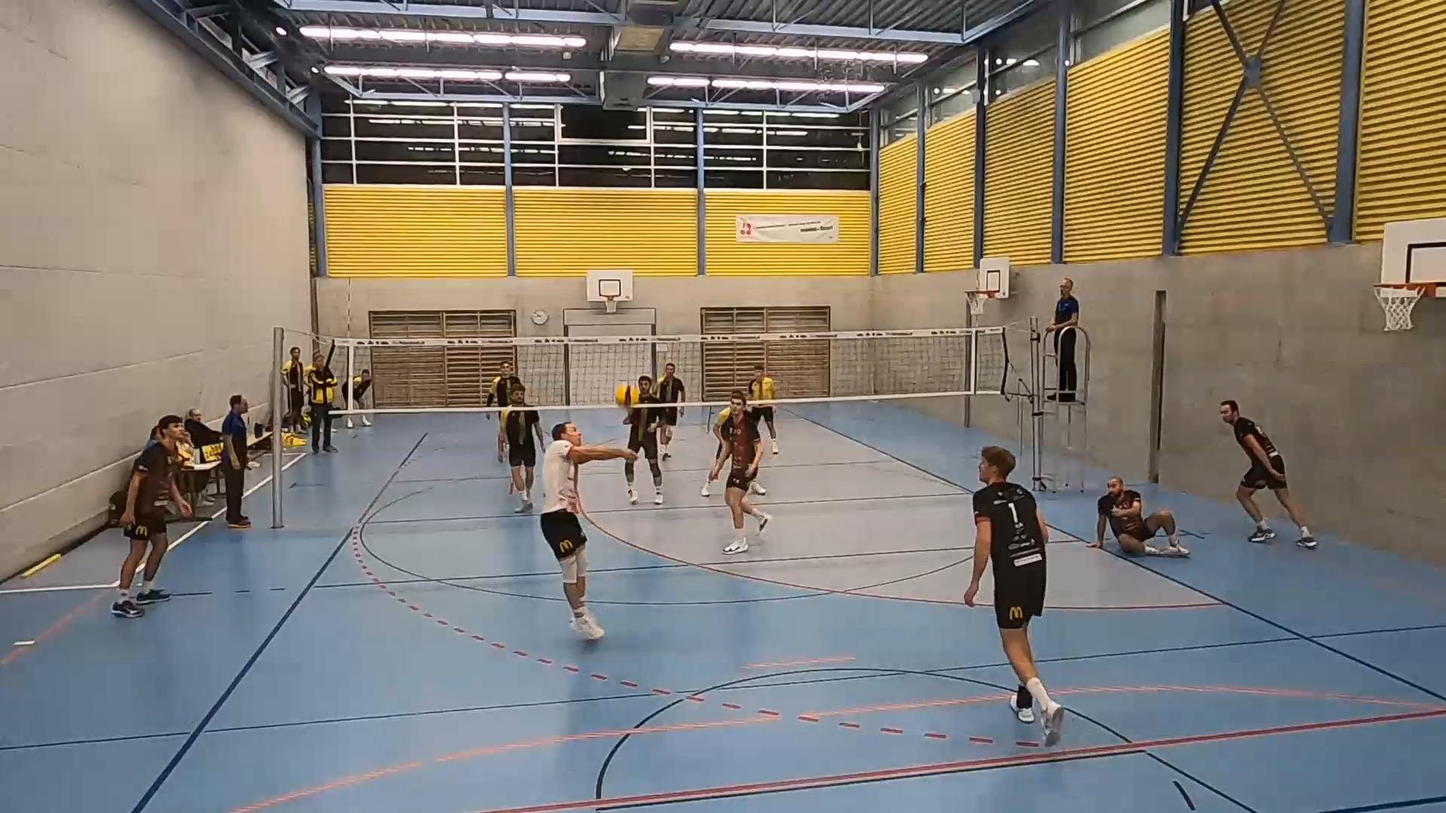Dig: (533, 418, 640, 652)
Player: (964, 446, 1063, 744), (111, 415, 191, 618), (1220, 400, 1316, 549), (709, 391, 770, 554), (1088, 477, 1188, 556), (498, 385, 546, 513), (624, 374, 663, 504), (484, 360, 521, 406), (658, 406, 683, 460), (753, 403, 778, 454), (700, 474, 716, 497)
ball: (614, 386, 648, 409)
